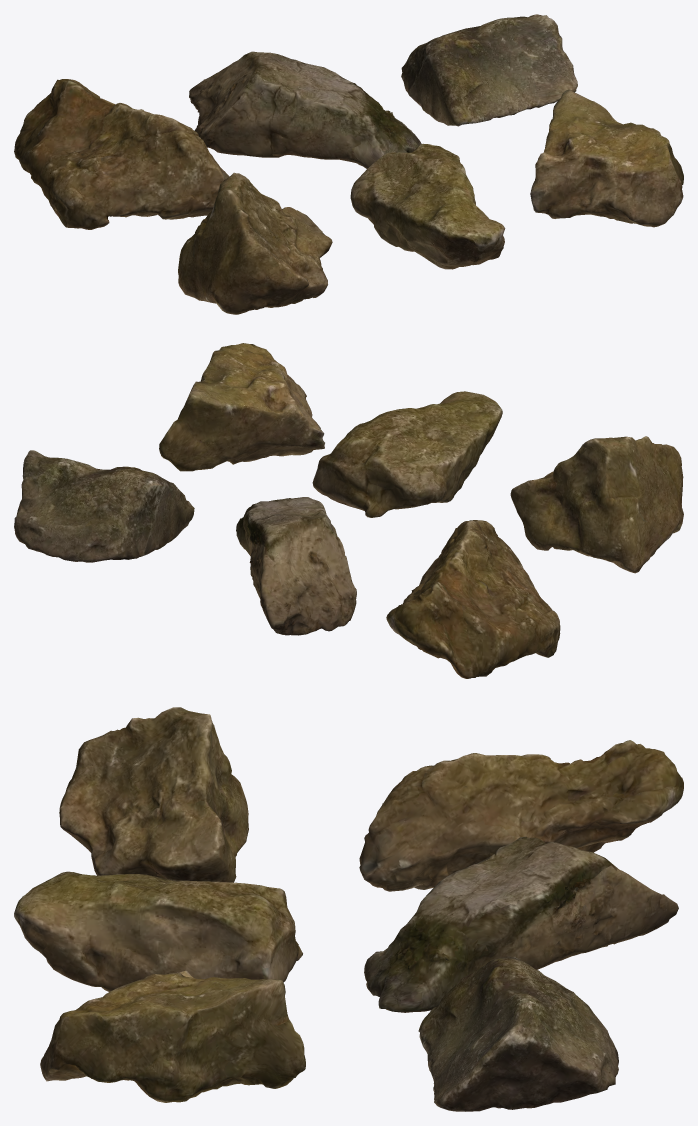
The model's file is mossy_rocks_a.glb.
3 views of the same model, one above another, from view 1: azimuth 30°, elevation 25°; view 2: azimuth 150°, elevation 25°; view 3: azimuth 270°, elevation 25° (orthographic). The views are drawn at different scales.
Parts seen in each view (by area): view 1: rock_moss_set_01_rock01; view 2: rock_moss_set_01_rock01; view 3: rock_moss_set_01_rock01.
Part boxes in pixels (left/top/right/bottom): rock_moss_set_01_rock01: left=14, top=14, right=683, bottom=314; rock_moss_set_01_rock01: left=14, top=343, right=683, bottom=678; rock_moss_set_01_rock01: left=14, top=707, right=683, bottom=1111.
Size of the model in its own units: 8 by 1.77 by 6.94.
1 material, 1 textured.
